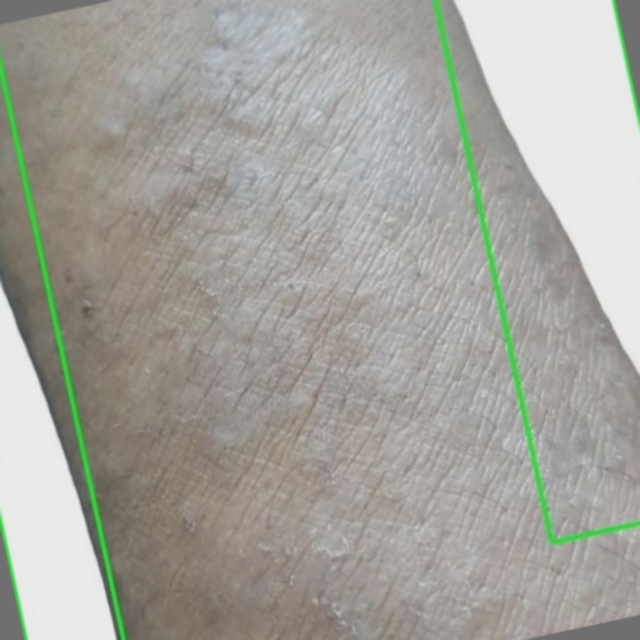Tinea Corporis: (435, 0, 639, 542)
